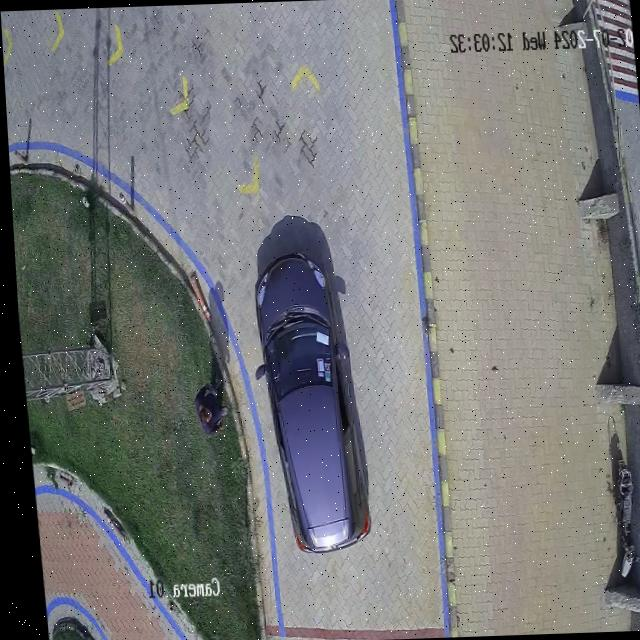car: (252, 252, 362, 553)
